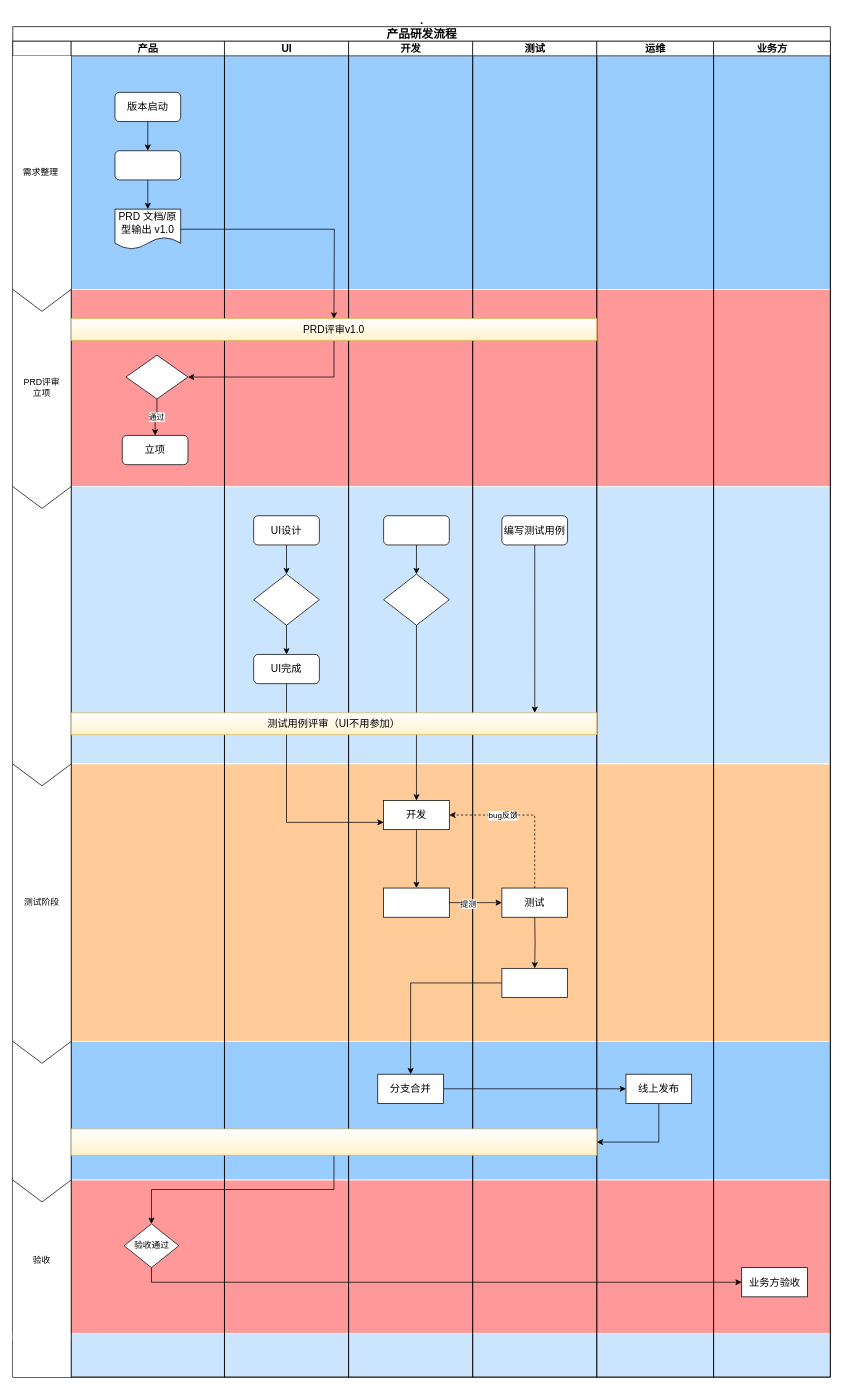
Some shapes in this 843 by 1390 pixel diagram are drawn without their labels. The box of each missing label's shape, as (x1, y1, x2, y2) in pixels:
UI评审: (253, 573, 319, 625)
发布阶段: (12, 1041, 71, 1180)
复盘: (12, 1333, 71, 1377)
开发阶段: (12, 486, 71, 764)
技术设计: (383, 515, 449, 545)
技术评审: (383, 573, 449, 625)
是否通过: (125, 354, 188, 399)
测试通过: (501, 968, 568, 998)
线上与回归验收: (70, 1128, 597, 1155)
自测: (383, 887, 449, 917)
阶段: (12, 41, 71, 1377)
需求收集: (114, 150, 181, 180)
